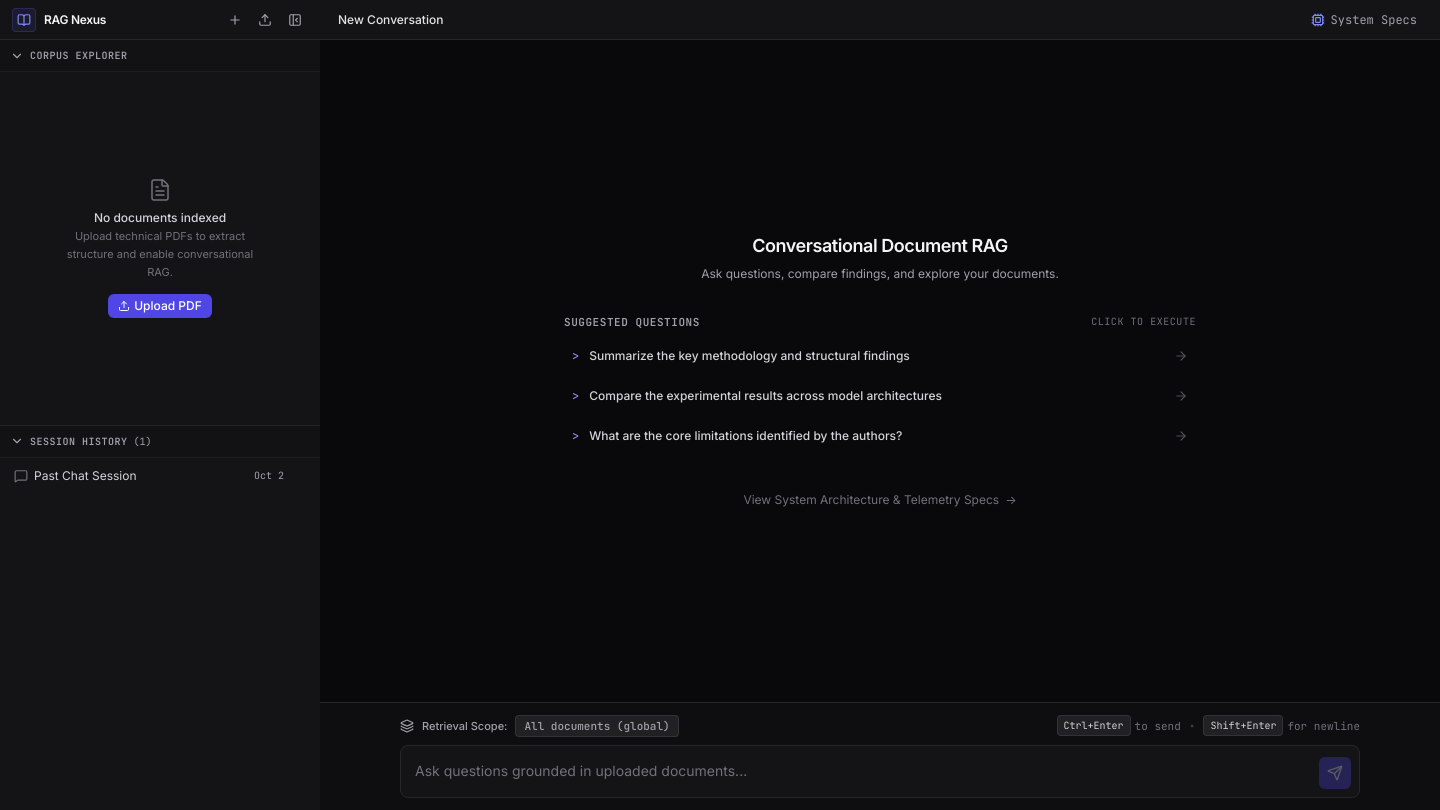
it: App Integration (Document Management & Conversation Sessions) › resets conversation to welcome state when "+ New Chat" button is clicked
This screenshot has width=1440, height=810.
Note: Load past session directly from unified sidebar tree
Click the button "Past Chat Session Oct 2" at (85, 475), box [14,468,284,482]
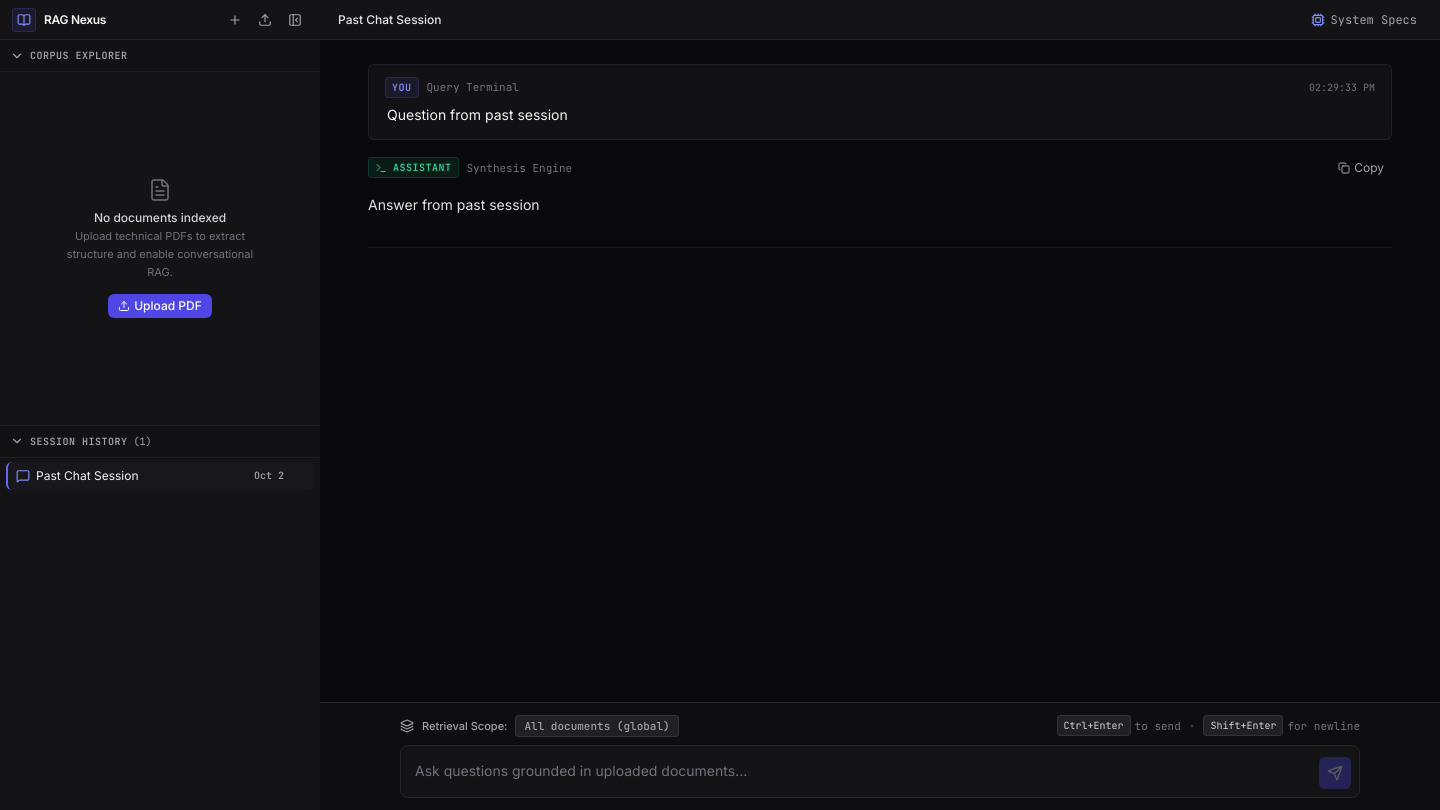
Now the text "Question from past session" is shown, box [387,106,568,123]
Note: Click "+ New Chat" button in sidebar toolbar
Click the button named "new chat" at (235, 20), box [222,6,248,32]
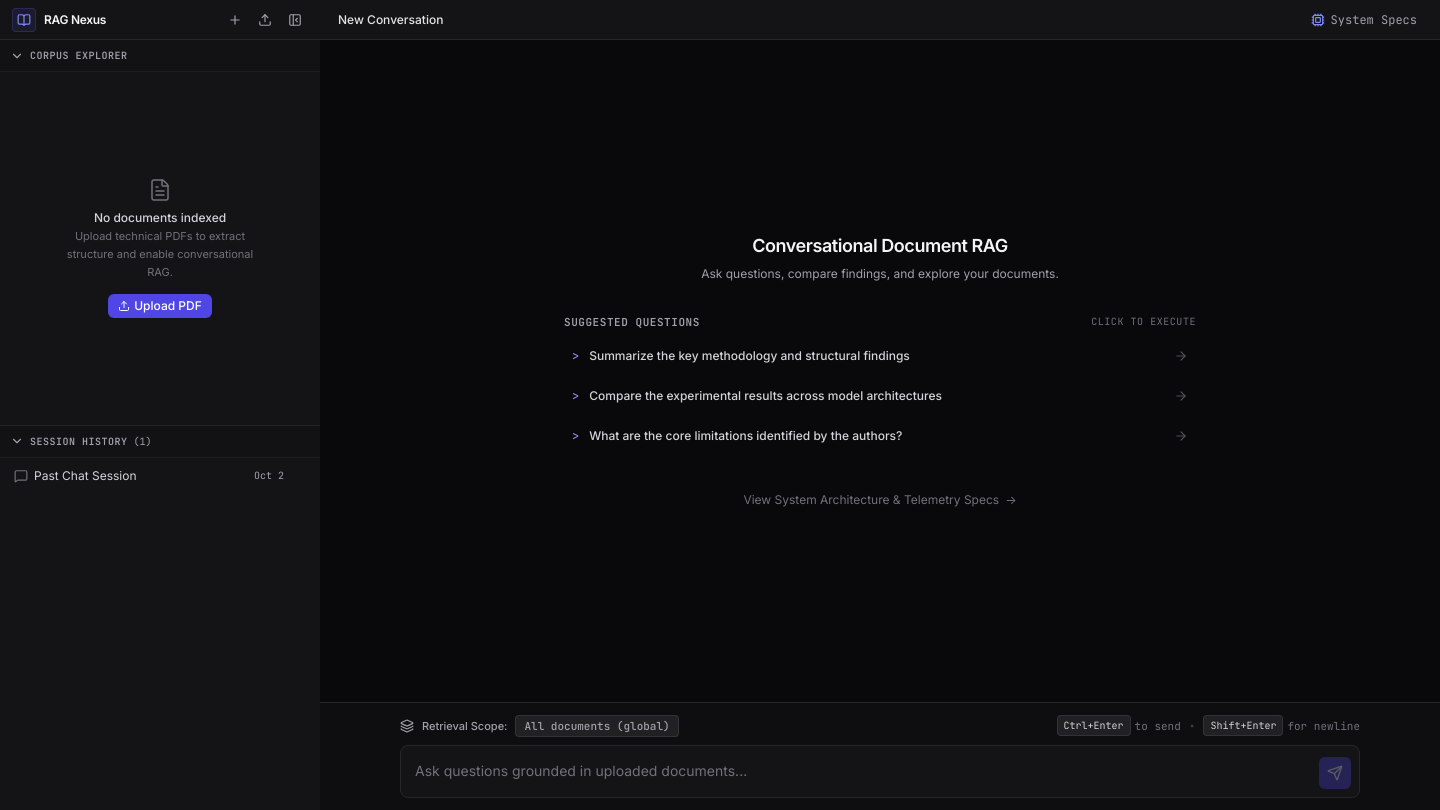
Now the text "Question from past session" is gone
Now the text "Suggested Questions" is shown, box [564,314,700,330]
